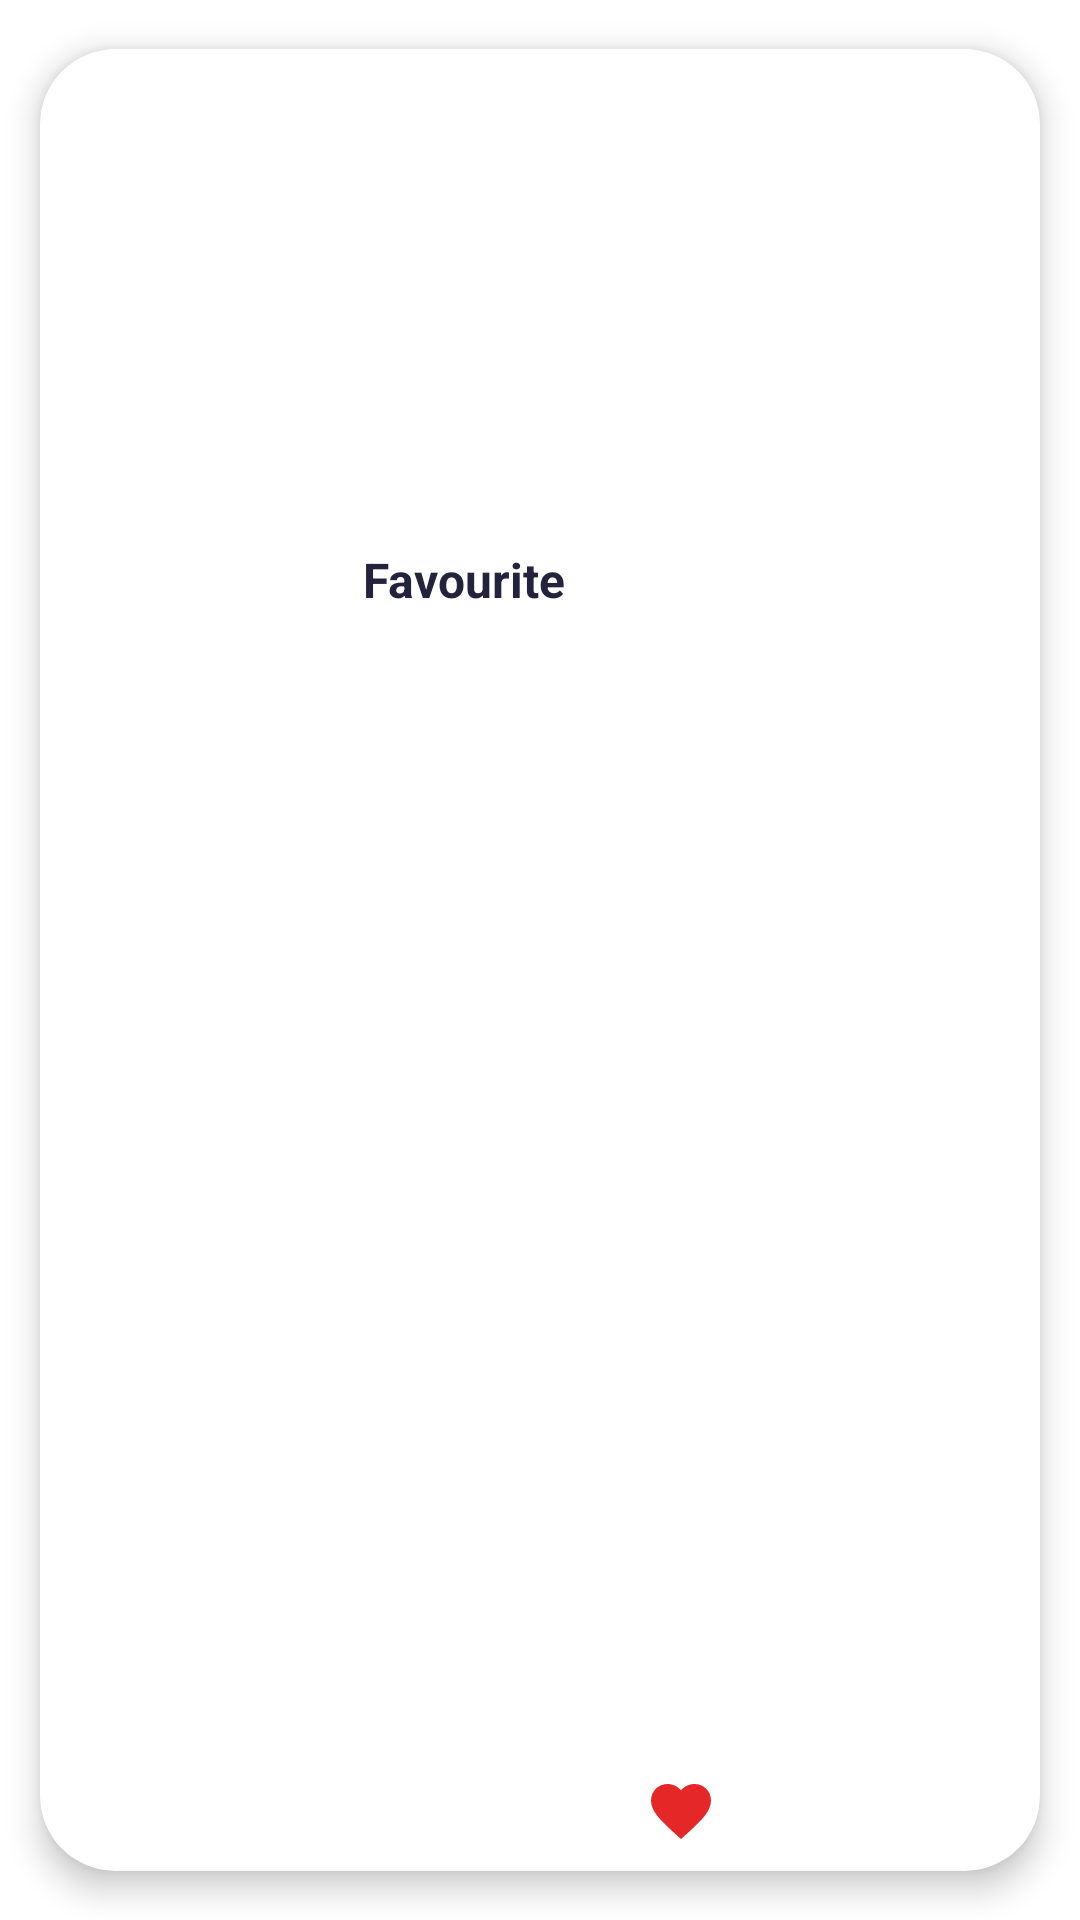

Named icons in this screenshot (1080*1920) and their centers, (x=x, y=y):
favorite: (x=681, y=1811)
